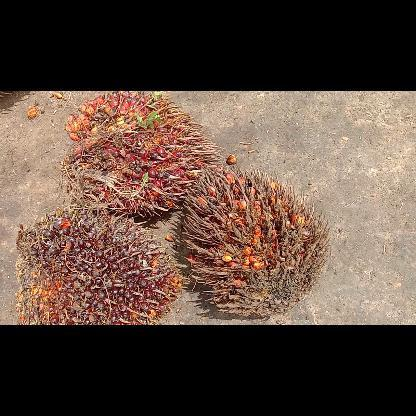Kurang masak: (17, 210, 175, 324)
TBS masak: (64, 90, 220, 214)
Terlalu masak: (176, 167, 328, 316)
